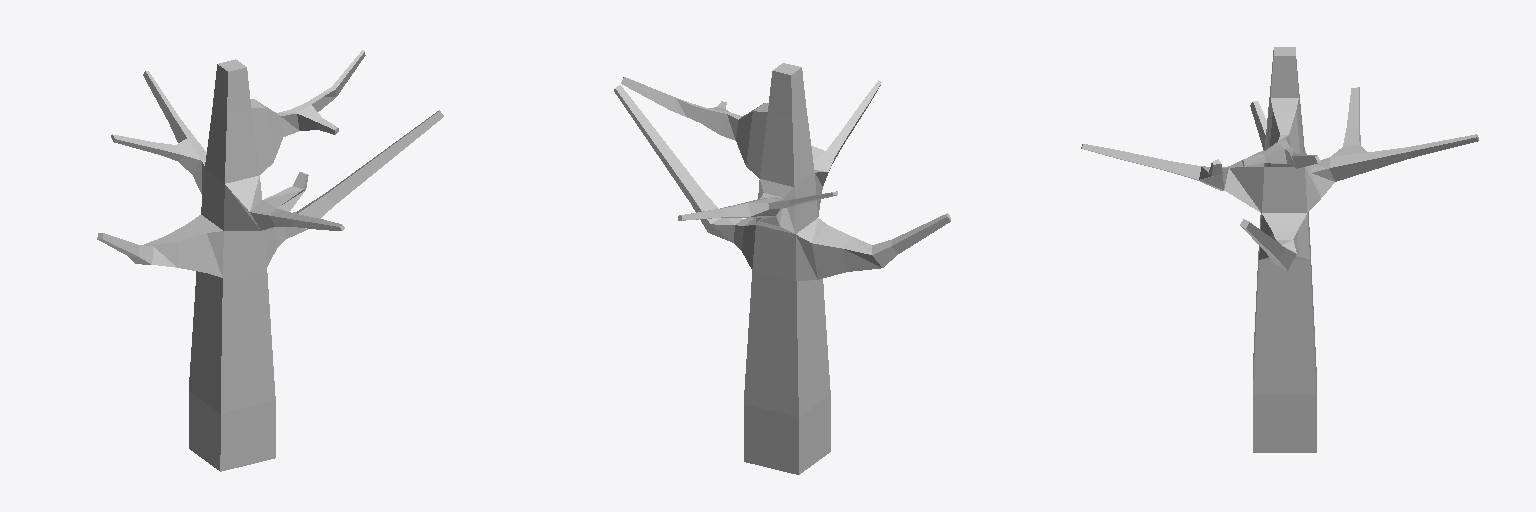
File: tree.obj
3 renders of one model, left to right at view 1: azimuth 30°, elevation 25°; view 2: azimuth 150°, elevation 25°; view 3: azimuth 270°, elevation 25°, orthographic.
Parts seen in each view (by area): view 1: Cube; view 2: Cube; view 3: Cube.
Boxes of the visible parts, box(x1,y1,x2,y2) form: Cube: box(97, 50, 443, 471); Cube: box(614, 63, 950, 474); Cube: box(1081, 47, 1478, 452).
Bounding box in the file's own units: 6.83 × 7.4 × 6.88.